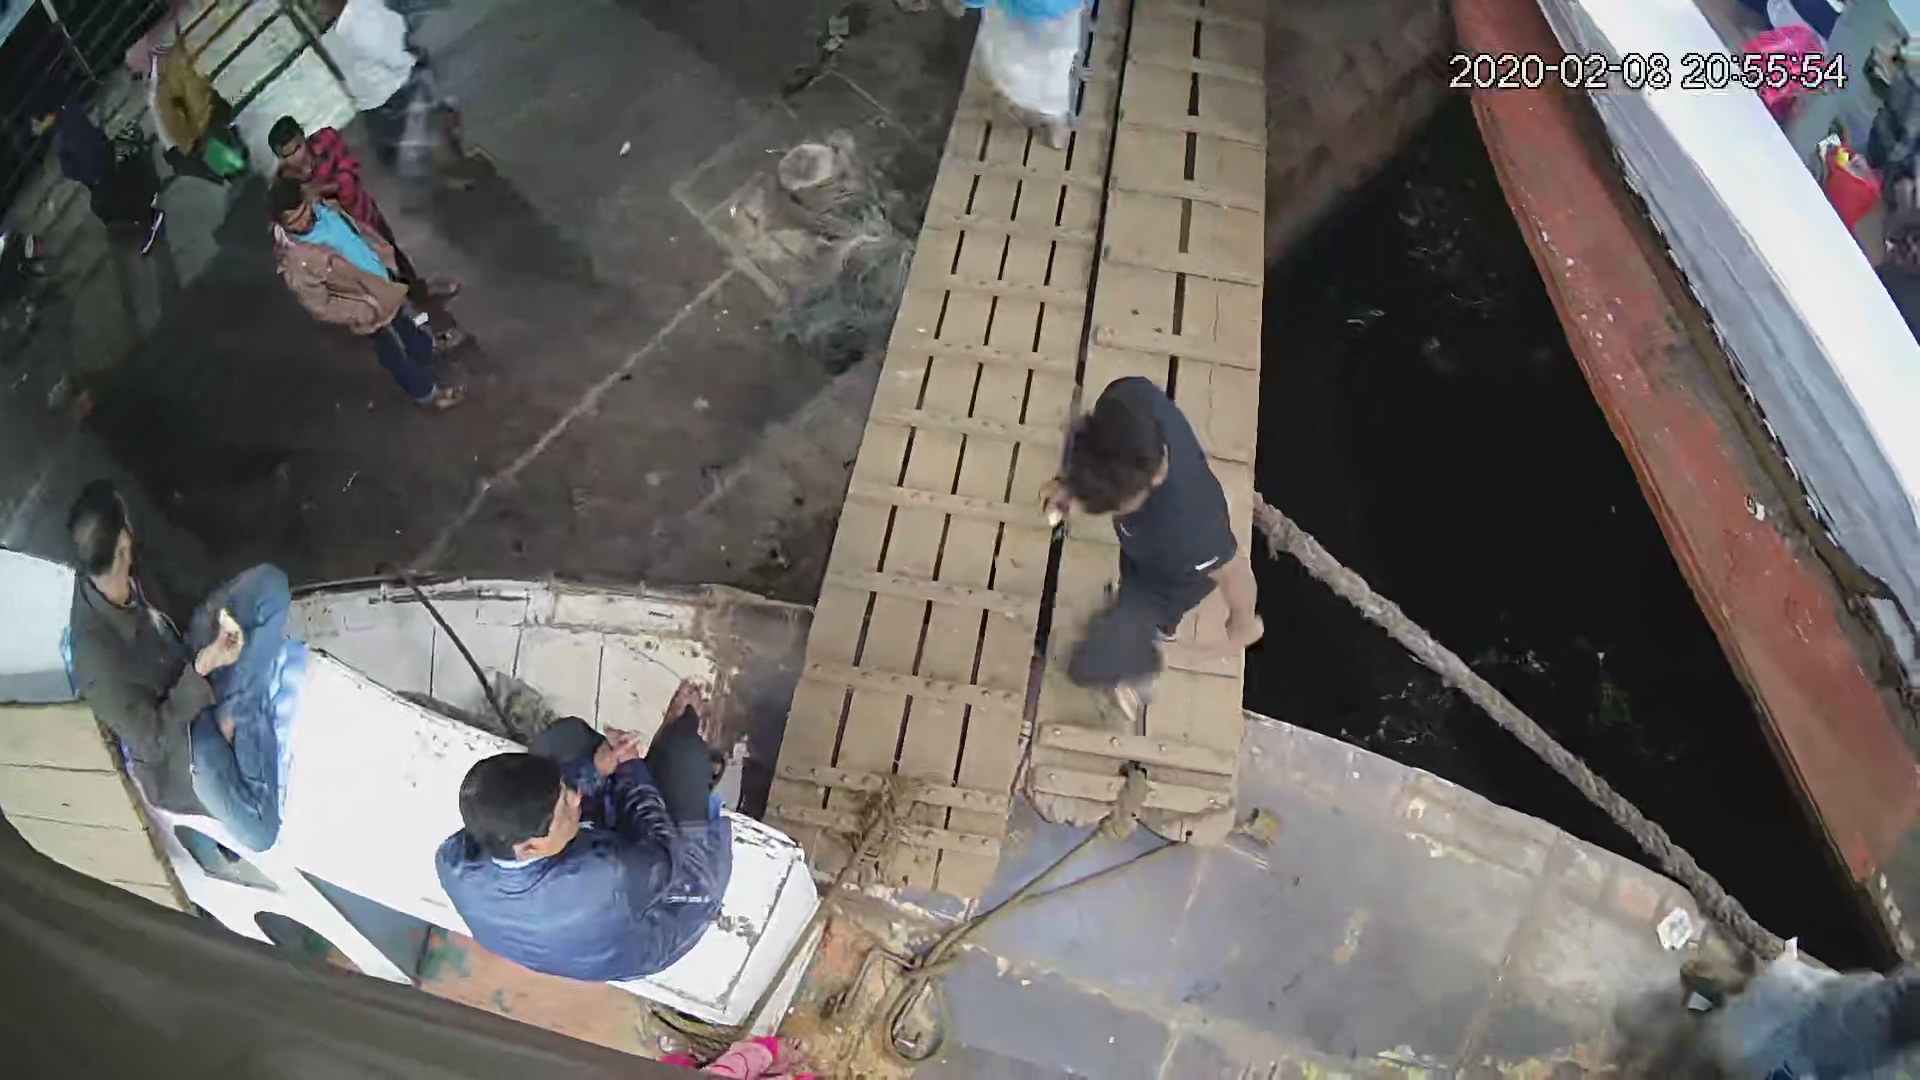person: (428, 673, 738, 990), (60, 470, 294, 859), (1038, 369, 1263, 724), (271, 185, 471, 416), (25, 95, 165, 254), (126, 33, 254, 190), (957, 1, 1092, 139), (256, 111, 368, 197)
